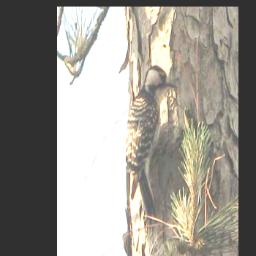Woodpecker: (125, 64, 178, 221)
